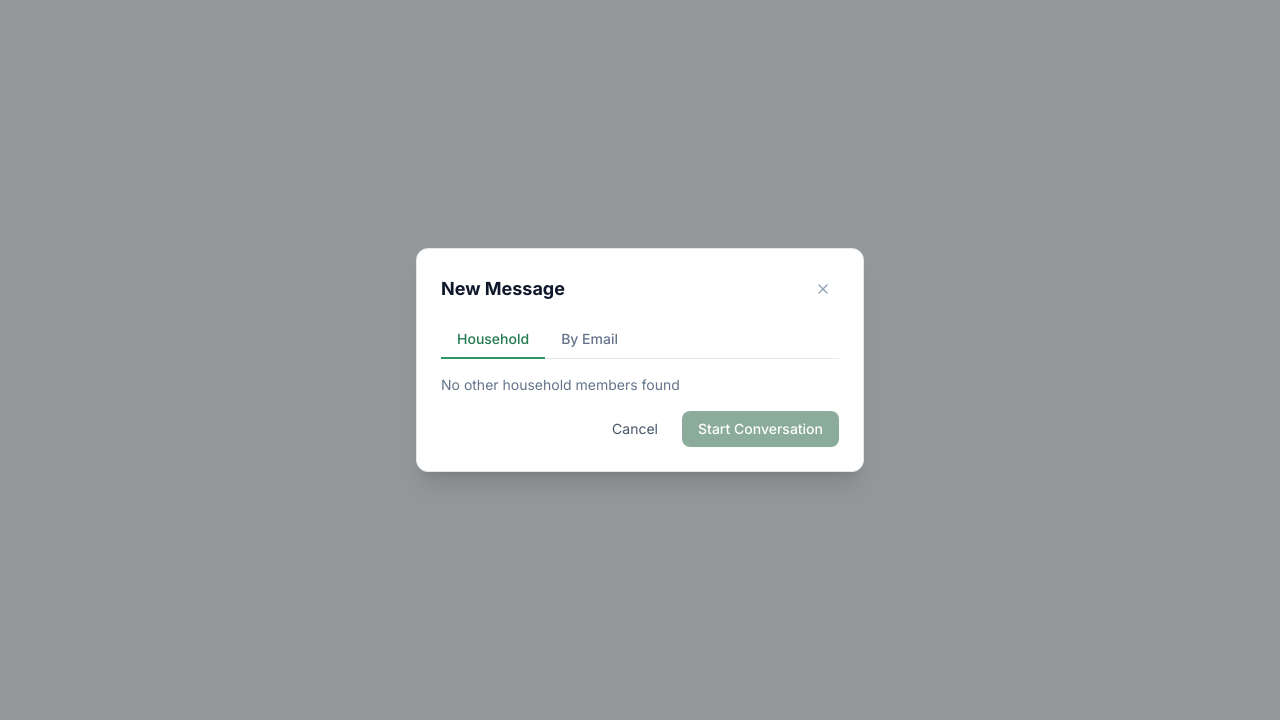
Test: NewMessageModal › email tab shows 'No account found' on unknown email
# Switch to email tab
Click the button "By Email" at x=590, y=340, box [545,321,634,359]
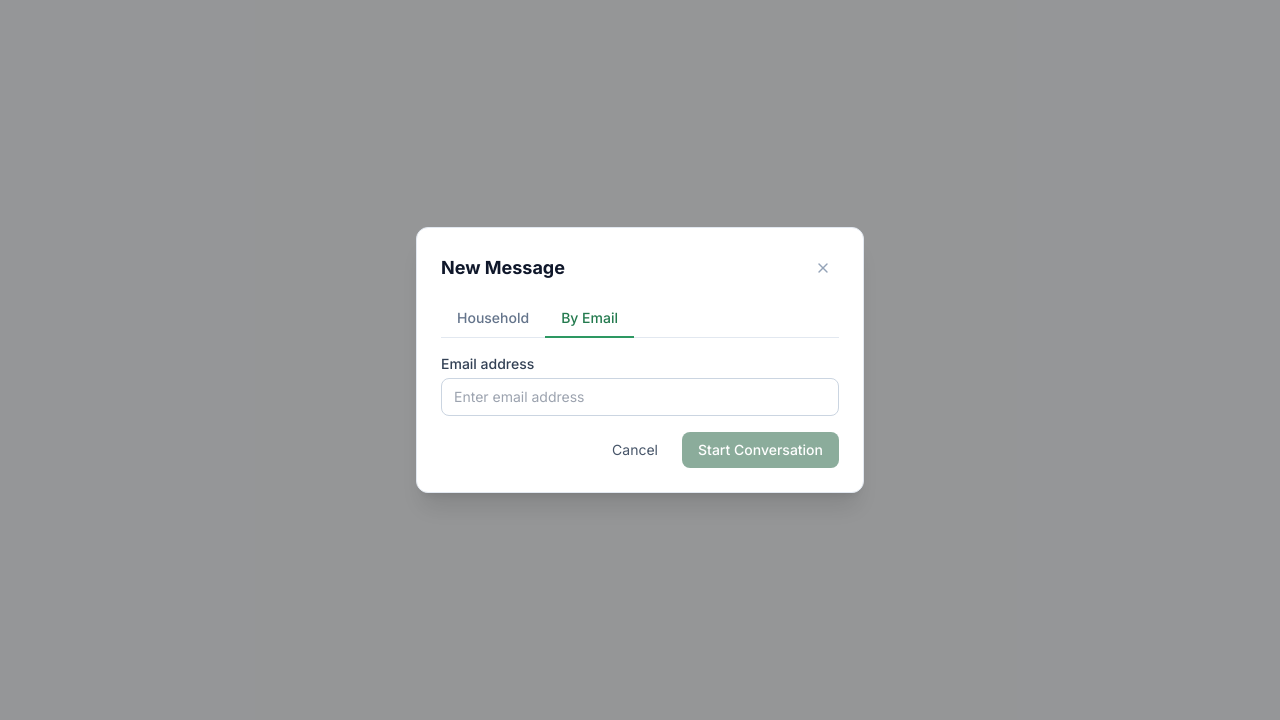
Type "unknown@example.com" into the field with placeholder "Enter email address" at x=640, y=397, box [441,378,839,416]
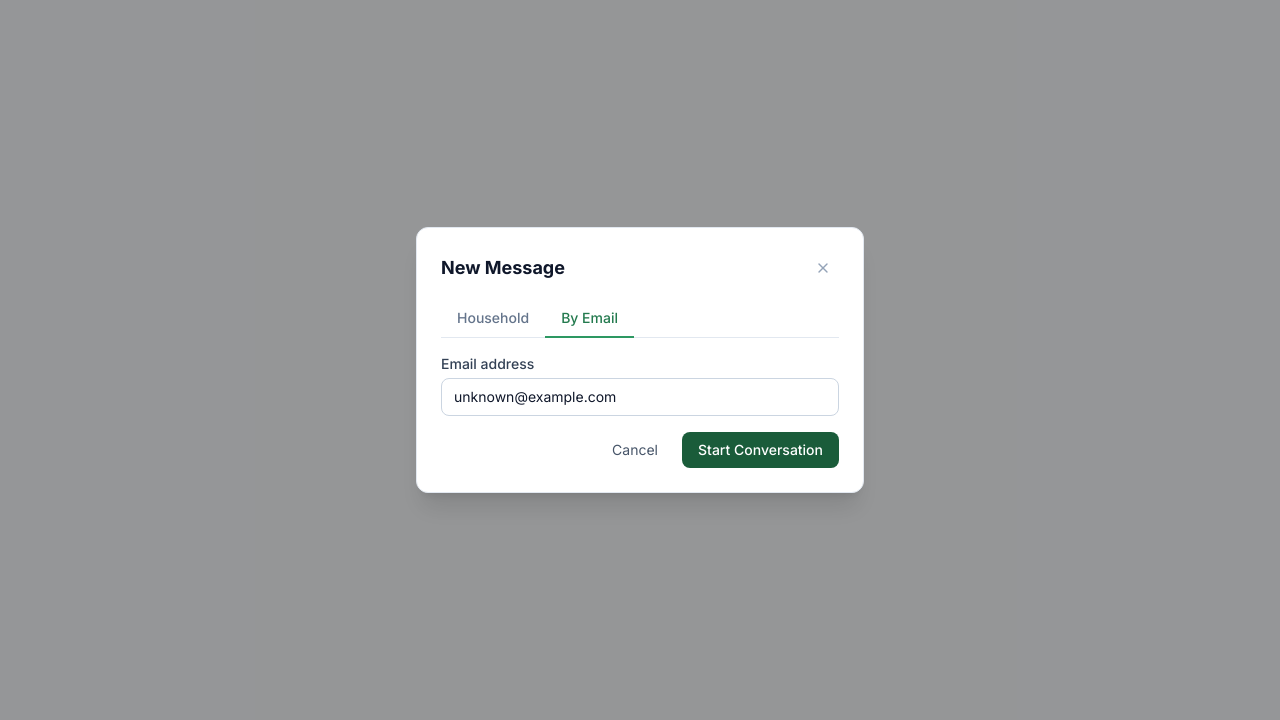
Click the button "Start Conversation" at x=760, y=450, box [682,432,839,468]
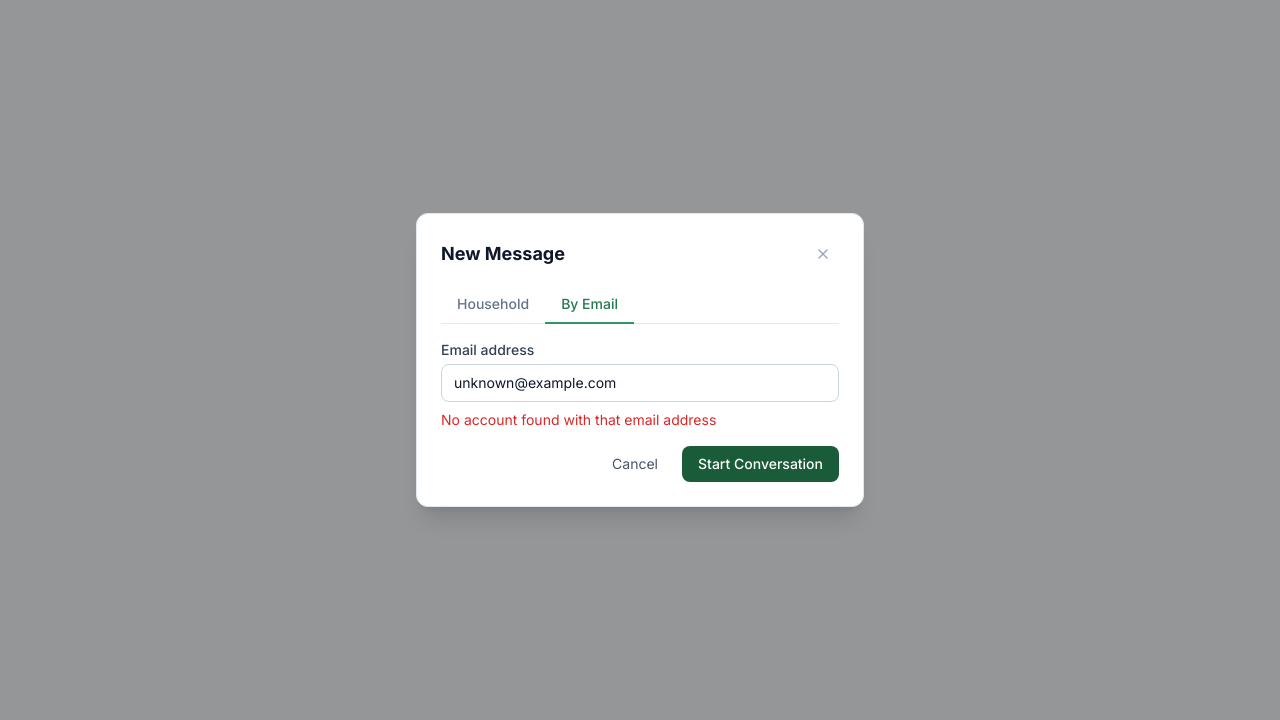
Result: the text "No account found with that email address" is shown at [441,411,716,428]
